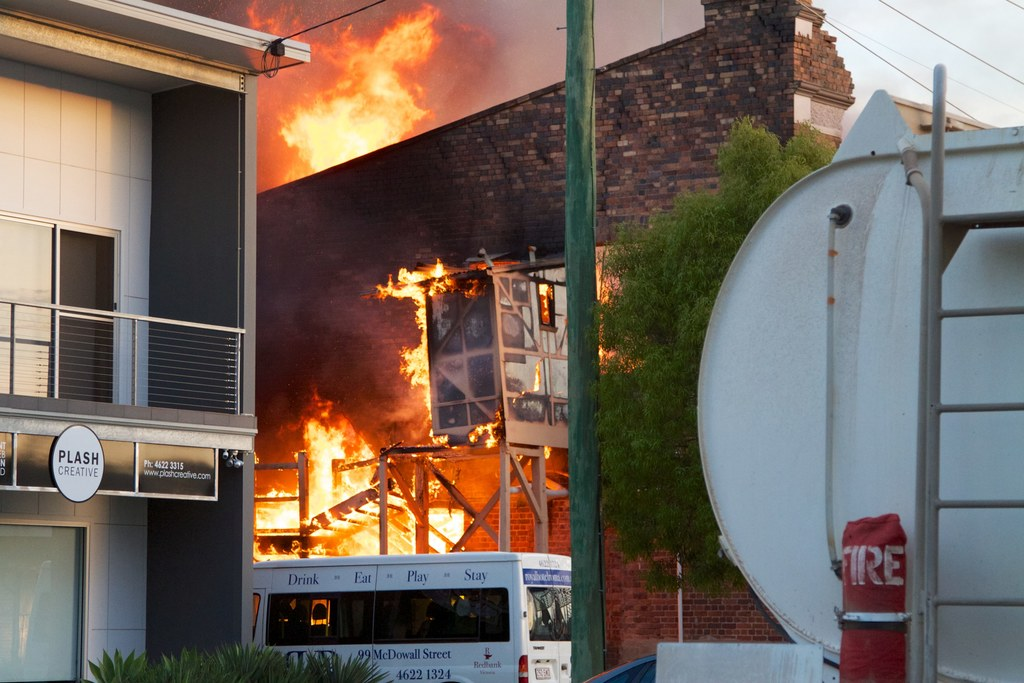Bus: (251, 552, 572, 682)
